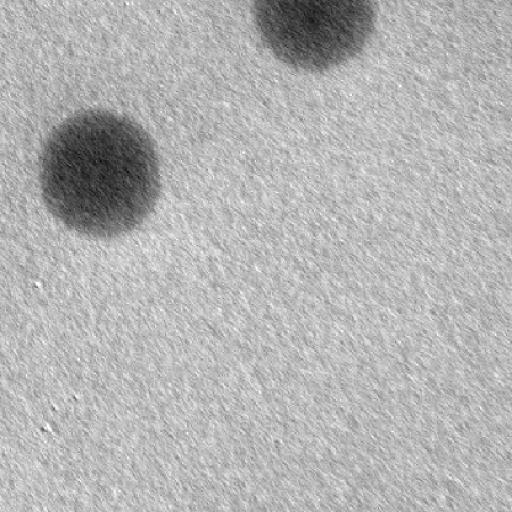Nanoparticles: (35, 108, 164, 236), (254, 0, 374, 70)
